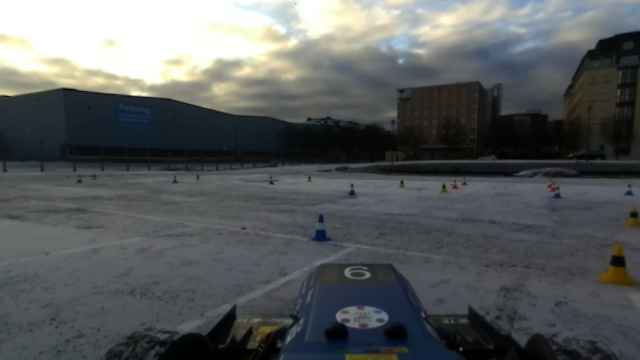blue: (309, 214, 334, 244), (344, 180, 359, 198), (552, 186, 563, 200)
yellow: (597, 244, 639, 290), (438, 181, 449, 194), (398, 177, 405, 188)
